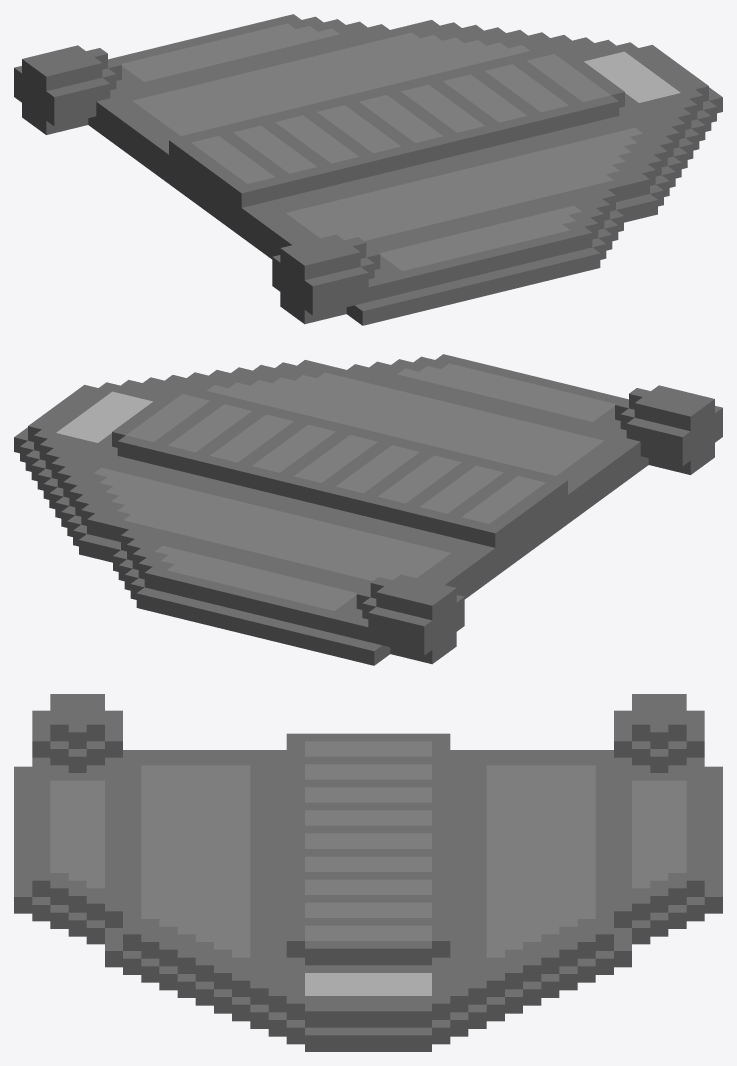
Rendered from PlayerShip.obj.
3 renders of one model, top to bottom at view 1: azimuth 30°, elevation 25°; view 2: azimuth 150°, elevation 25°; view 3: azimuth 270°, elevation 25°, orthographic. The views are drawn at different scales.
Bounding box in the file's own units: 38 × 4 × 39.
1 material, 1 textured.
